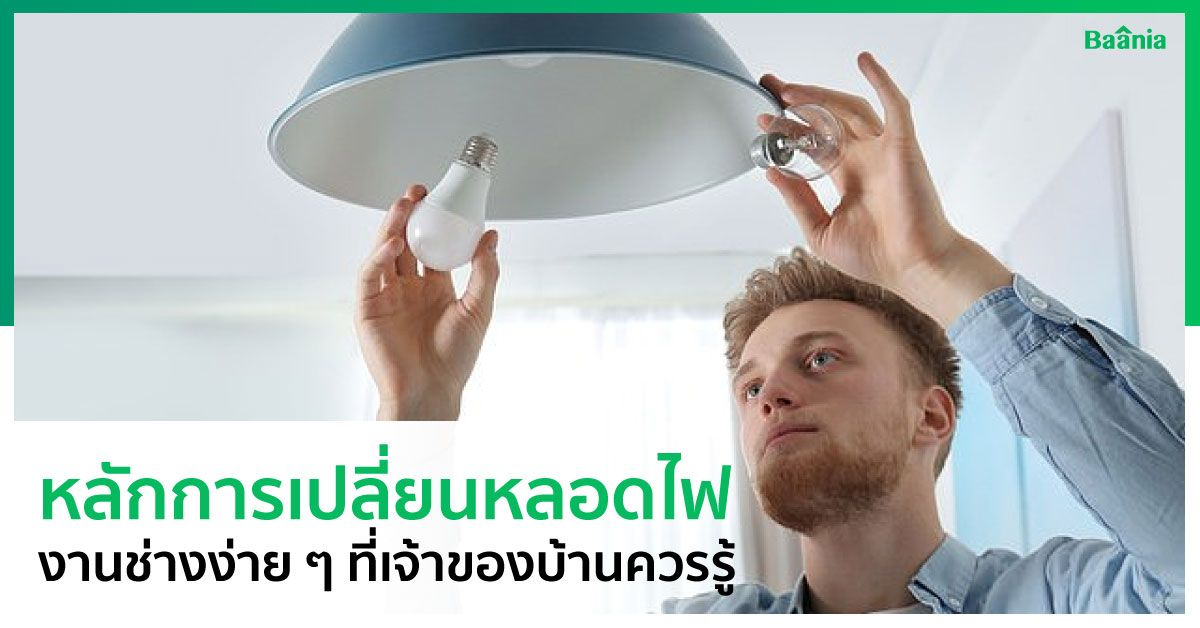Light_bulb: (392, 124, 514, 289), (746, 103, 861, 205)
